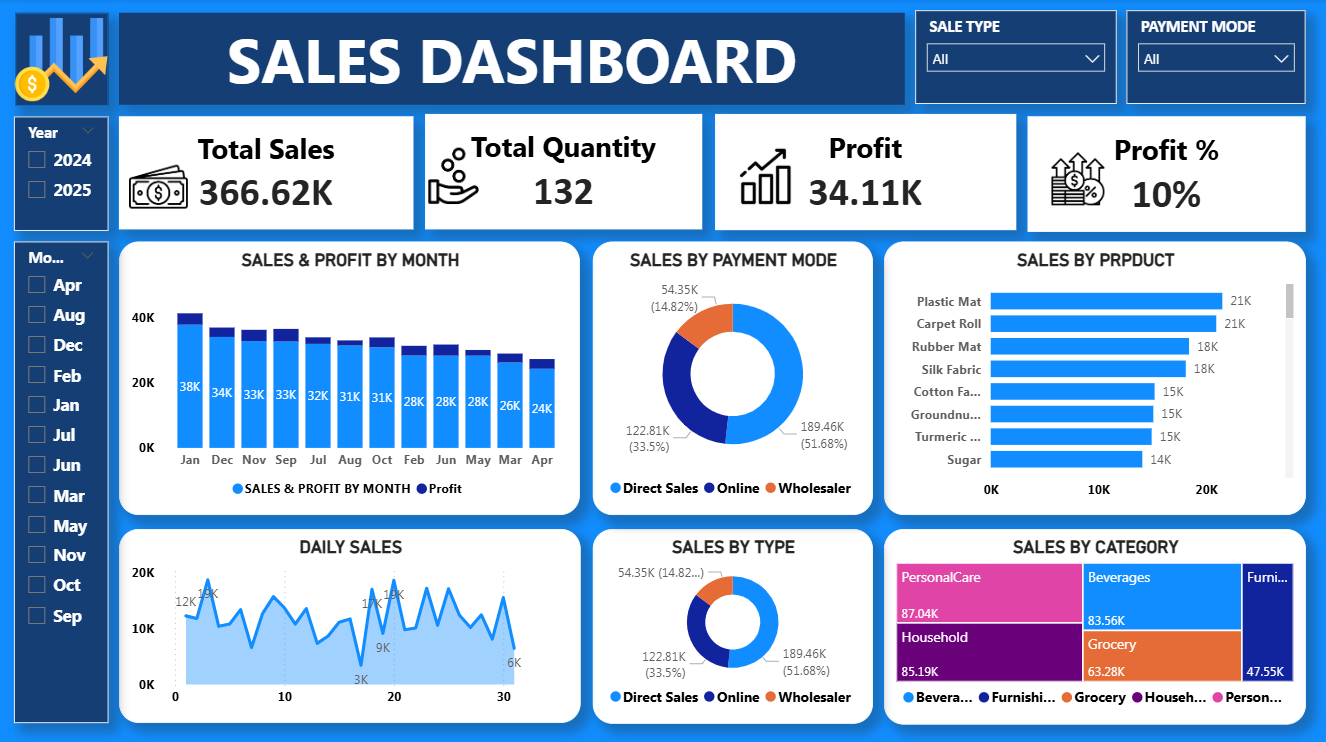

This screenshot's page, from the dashboard's own definition file:
{"tool":"powerbi","page":{"name":"Dashboard","canvas":[1280,720],"ordinal":7},"visuals":[{"type":"shape","box":[15.7,12.9,90,90],"z":0},{"type":"image","box":[14.3,12.9,91.4,90],"z":1000},{"type":"textbox","box":[115.7,12.9,758.6,88.6],"z":2000},{"type":"slicer","fields":{"Values":["InputData.Year"]},"box":[14.3,112.9,91.4,110],"z":3000},{"type":"slicer","fields":{"Values":["InputData.SALE TYPE"]},"box":[884.3,11.4,194.3,90],"z":4000},{"type":"slicer","fields":{"Values":["InputData.PAYMENT MODE"]},"box":[1088.6,11.4,172.9,90],"z":5000},{"type":"cardVisual","fields":{"Data":["Sum(InputData.Total Selling Value)"]},"box":[115.7,112.9,284.3,108.6],"z":6000},{"type":"cardVisual","fields":{"Data":["Sum(InputData.QUANTITY)"]},"box":[411.4,111.4,267.1,111.4],"z":7000},{"type":"cardVisual","fields":{"Data":["InputData.Profit"]},"box":[691,111,290,112],"z":8000},{"type":"cardVisual","fields":{"Data":["InputData.Profit %"]},"box":[993,113,268,111],"z":9000},{"type":"image","box":[125.7,137.1,57.1,87.1],"z":10000},{"type":"image","box":[411.4,128.6,54.3,82.9],"z":11000},{"type":"image","box":[708.2,127.9,63.9,84.5],"z":12000},{"type":"image","box":[1003.8,147.2,74.8,53.1],"z":13000},{"type":"columnChart","title":"SALES & PROFIT BY MONTH ","fields":{"Y":["Sum(InputData.Total Selling Value)","InputData.Profit"],"Category":["InputData.Month Name"]},"box":[115.8,234,445.2,264.2],"z":14000},{"type":"areaChart","title":"DAILY SALES ","fields":{"Category":["InputData.DATE.Variation.Date Hierarchy.Day"],"Y":["Sum(InputData.Total Selling Value)"]},"box":[115.7,511.4,445.7,187.1],"z":15000},{"type":"clusteredBarChart","title":"SALES BY PRPDUCT","fields":{"Category":["InputData.MasterData.PRODUCT"],"Y":["Sum(InputData.Total Selling Value)"]},"box":[854.3,234.3,407.1,264.3],"z":16000},{"type":"treemap","title":"SALES BY CATEGORY","fields":{"Values":["Sum(InputData.Total Selling Value)"],"Details":["InputData.MasterData.CATEGORY"]},"box":[854.3,511.4,407.1,188.6],"z":17000},{"type":"donutChart","title":"SALES BY TYPE","fields":{"Y":["Sum(InputData.Total Selling Value)"],"Category":["InputData.SALE TYPE"]},"box":[573.1,511.5,270.2,188.2],"z":18000},{"type":"donutChart","title":"SALES BY PAYMENT MODE","fields":{"Category":["InputData.SALE TYPE"],"Y":["Sum(InputData.Total Selling Value)"]},"box":[573.1,234,270.2,264.2],"z":19000},{"type":"slicer","fields":{"Values":["InputData.Month Name"]},"box":[14.4,233.7,90.9,464.6],"z":20000}]}

Visuals, with their boxes in screenshot pixels (x1, y1, x2, y2), scaled from the page's 1280x720 canvas onto the 1326x742 screenshot:
shape: [16, 13, 109, 106]
image: [15, 13, 109, 106]
textbox: [120, 13, 906, 105]
slicer - InputData.Year: [15, 116, 109, 230]
slicer - InputData.SALE TYPE: [916, 12, 1117, 104]
slicer - InputData.PAYMENT MODE: [1128, 12, 1307, 104]
cardVisual - Sum(InputData.Total Selling Value): [120, 116, 414, 228]
cardVisual - Sum(InputData.QUANTITY): [426, 115, 703, 230]
cardVisual - InputData.Profit: [716, 114, 1016, 230]
cardVisual - InputData.Profit %: [1029, 116, 1306, 231]
image: [130, 141, 189, 231]
image: [426, 133, 482, 218]
image: [734, 132, 800, 219]
image: [1040, 152, 1117, 206]
"SALES & PROFIT BY MONTH " columnChart: [120, 241, 581, 513]
"DAILY SALES " areaChart: [120, 527, 582, 720]
"SALES BY PRPDUCT" clusteredBarChart: [885, 241, 1307, 514]
"SALES BY CATEGORY" treemap: [885, 527, 1307, 721]
"SALES BY TYPE" donutChart: [594, 527, 874, 721]
"SALES BY PAYMENT MODE" donutChart: [594, 241, 874, 513]
slicer - InputData.Month Name: [15, 241, 109, 720]
